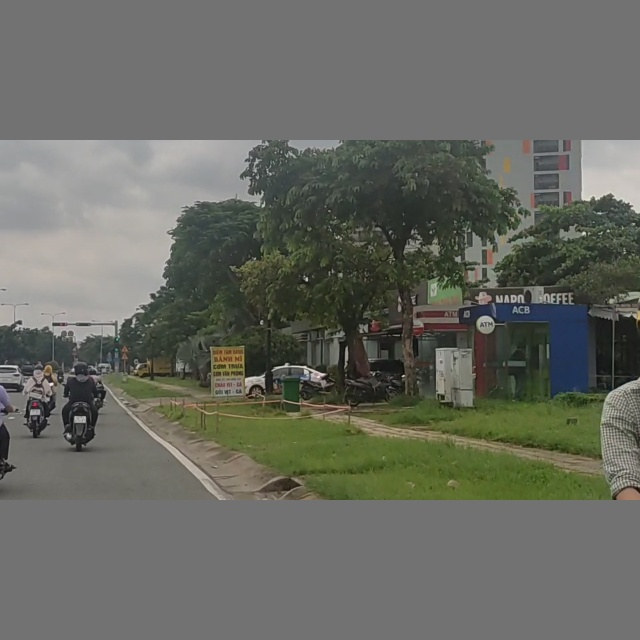W.207: (121, 345, 129, 353)
W.224: (120, 353, 129, 360)
